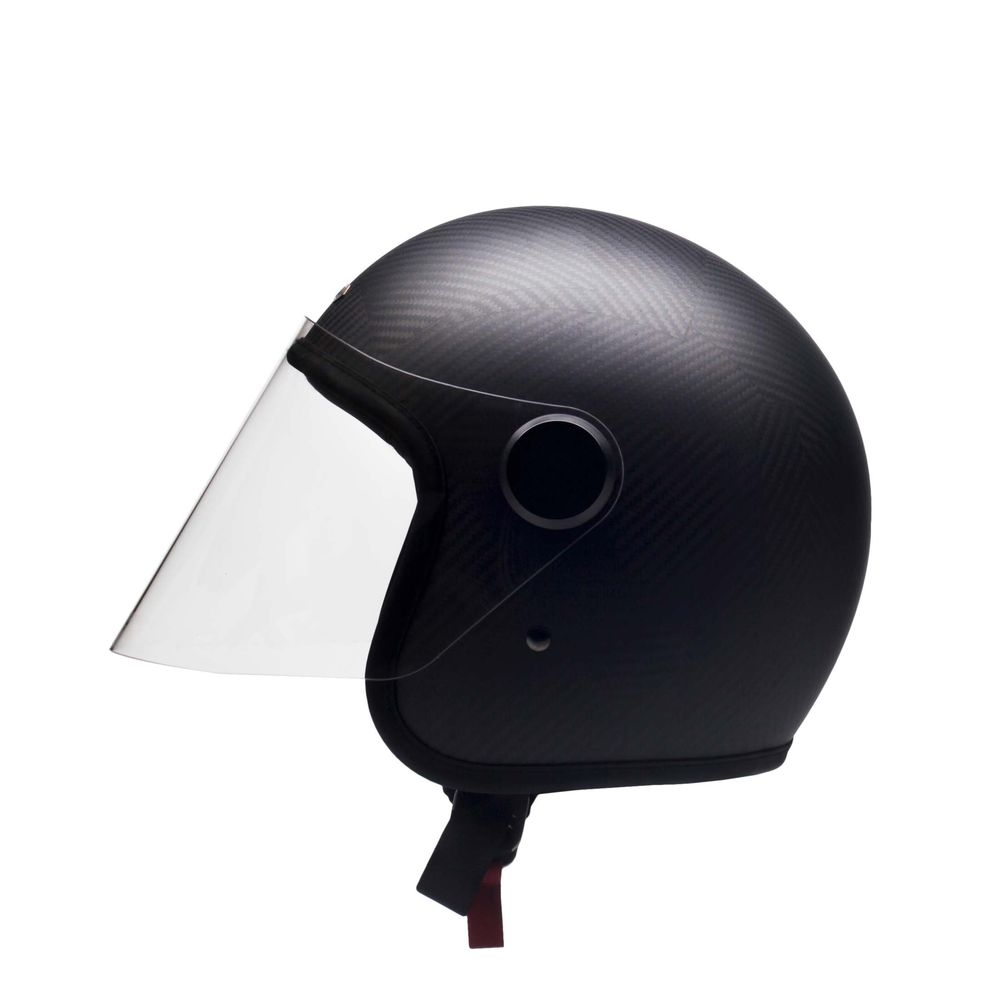with_helmet: (99, 200, 886, 824)
